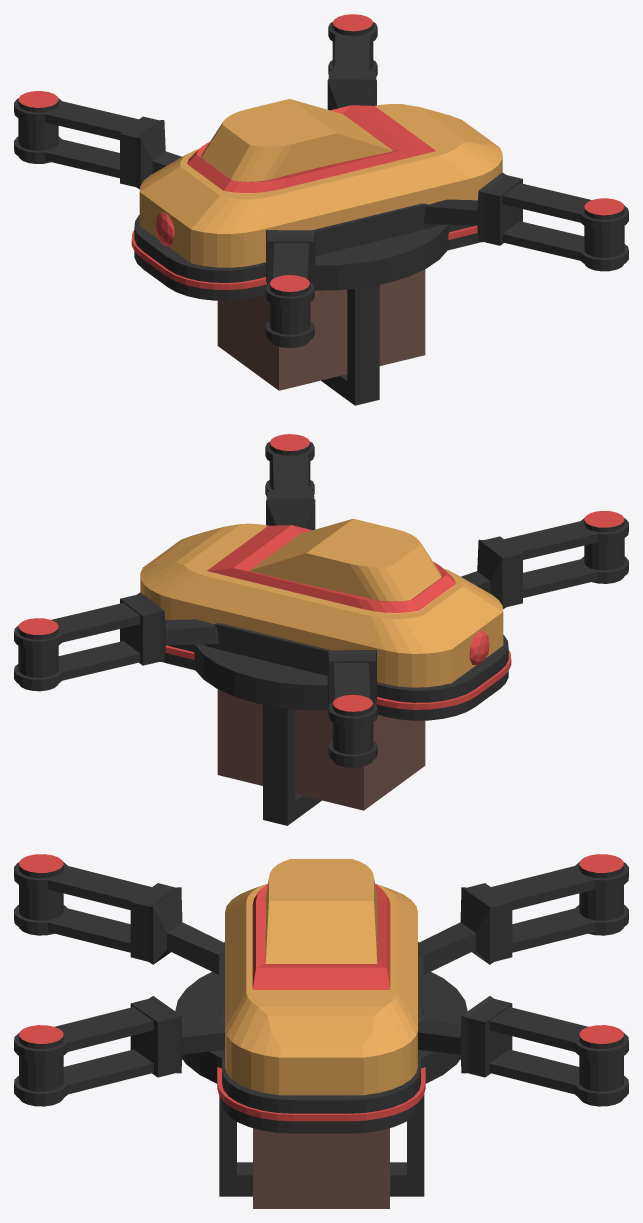
The model's file is drone.glb.
The picture shows the model from 3 angles, top to bottom: view 1: azimuth 30°, elevation 25°; view 2: azimuth 150°, elevation 25°; view 3: azimuth 270°, elevation 25°; orthographic projection. The views are drawn at different scales.
Visible parts, largest first — view 1: Body, Motor, Box, Engine, Sensor, Rotor, Holder, Light; view 2: Body, Motor, Box, Engine, Sensor, Rotor, Holder, Light; view 3: Motor, Body, Box, Sensor, Engine, Rotor, Holder, Light.
Boxes of the visible parts, left/top/right/bottom form: Body: left=139, top=99, right=502, bottom=267; Motor: left=14, top=21, right=628, bottom=348; Box: left=217, top=269, right=425, bottom=390; Engine: left=134, top=203, right=479, bottom=300; Sensor: left=131, top=105, right=477, bottom=289; Rotor: left=314, top=224, right=449, bottom=290; Holder: left=321, top=285, right=379, bottom=405; Light: left=18, top=14, right=624, bottom=291; Body: left=140, top=518, right=503, bottom=687; Motor: left=14, top=441, right=628, bottom=767; Box: left=217, top=689, right=425, bottom=810; Engine: left=164, top=623, right=508, bottom=720; Sensor: left=165, top=525, right=511, bottom=709; Rotor: left=193, top=644, right=328, bottom=710; Holder: left=263, top=704, right=321, bottom=825; Light: left=18, top=434, right=624, bottom=711; Motor: left=14, top=862, right=628, bottom=1106; Body: left=225, top=859, right=417, bottom=1095; Box: left=253, top=1128, right=389, bottom=1208; Sensor: left=217, top=884, right=425, bottom=1121; Engine: left=219, top=942, right=423, bottom=1133; Rotor: left=175, top=972, right=467, bottom=1083; Holder: left=219, top=1094, right=424, bottom=1196; Light: left=19, top=854, right=623, bottom=1043.
Bounding box in the file's own units: 3.13 × 2.14 × 4.2.
